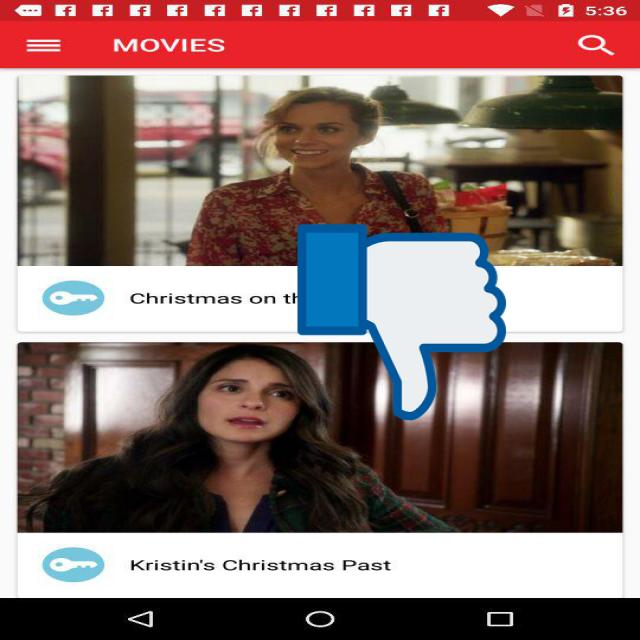obstruction: (298, 220, 506, 425)
